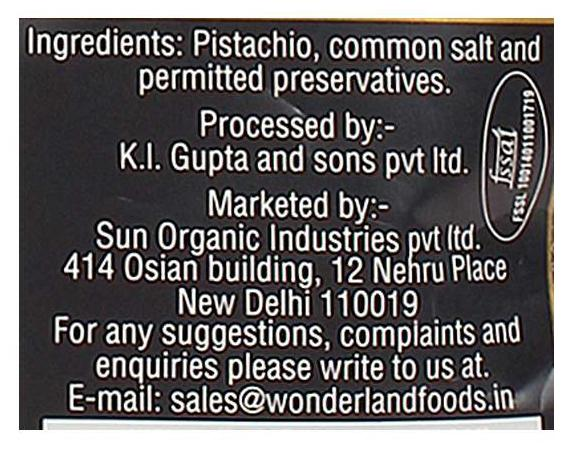fssai: (489, 126, 516, 190)
